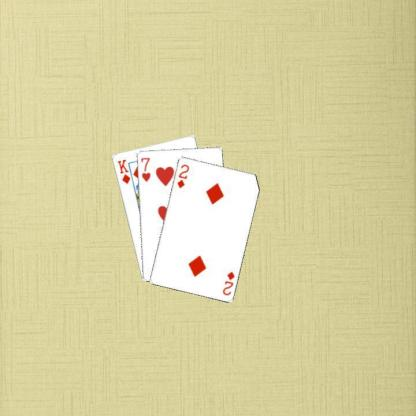2D: (220, 269, 236, 296), (175, 162, 190, 189)
7H: (138, 155, 151, 182)
KD: (115, 156, 131, 186)
